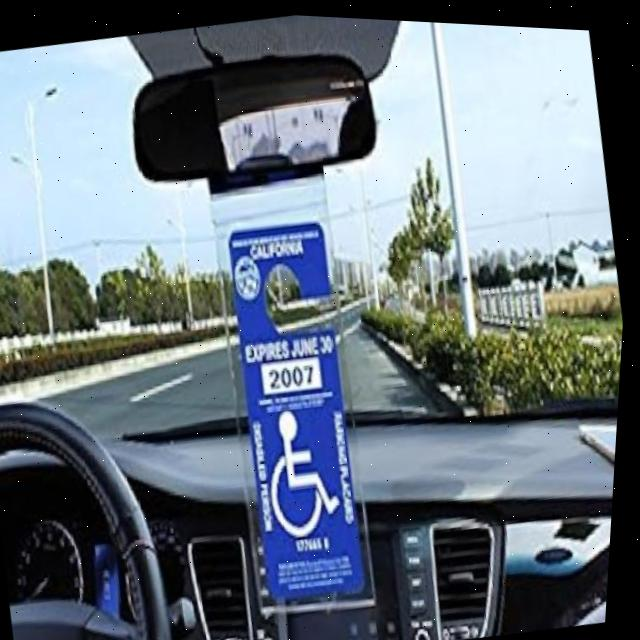symbol_of_access: (253, 395, 361, 549)
